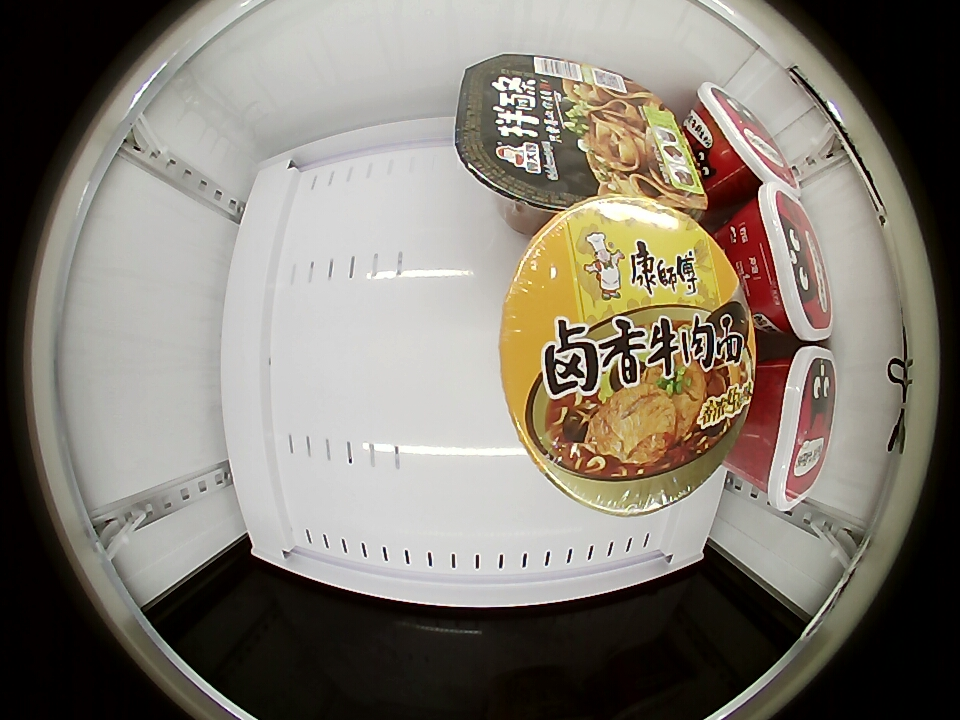gudasao: (453, 54, 710, 214)
luxiangniurou: (500, 194, 756, 516)
niudufen: (734, 183, 832, 343), (745, 345, 836, 510), (689, 83, 799, 196)
